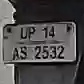1: (41, 26, 49, 40)
2: (56, 43, 68, 60), (33, 43, 41, 60)
3: (49, 44, 56, 59)
4: (49, 23, 58, 39)
5: (41, 44, 50, 60)
A: (11, 46, 20, 62)
P: (27, 24, 36, 41)
S: (20, 45, 28, 63)
U: (20, 27, 28, 41)
